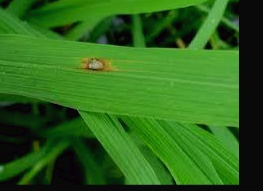Brown_Spot: (74, 47, 115, 75)
